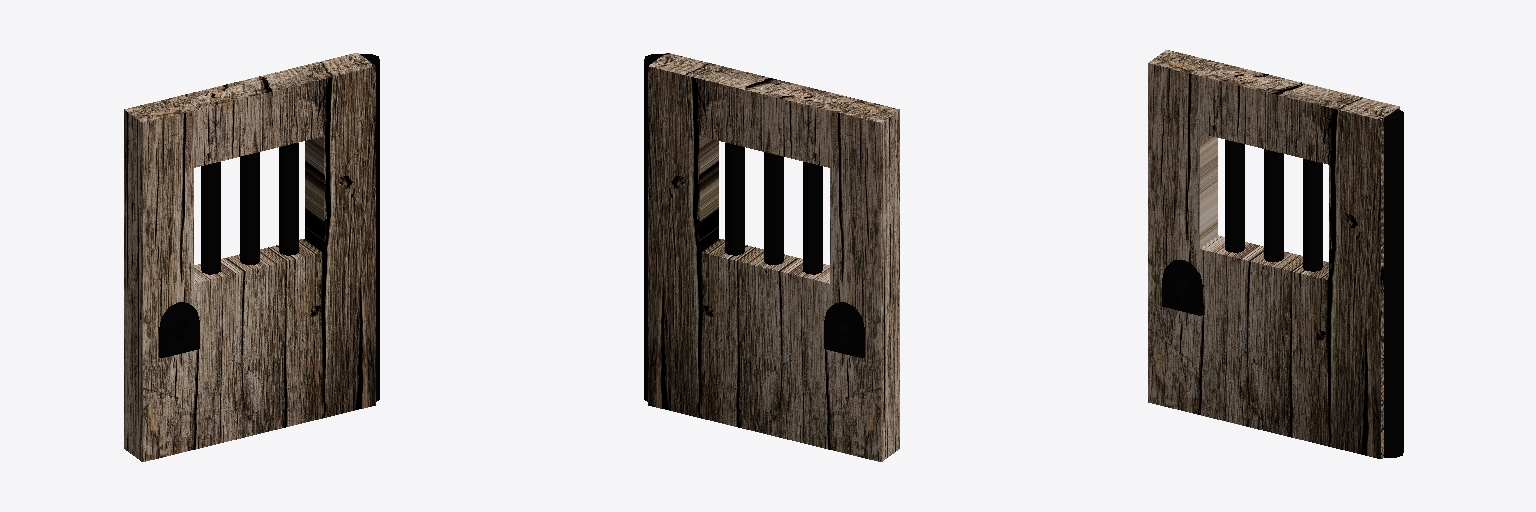
The picture shows the model from 3 angles: view 1: azimuth 30°, elevation 25°; view 2: azimuth 150°, elevation 25°; view 3: azimuth 330°, elevation 25°; orthographic projection.
Visible parts, largest first — view 1: pCube1, pCylinder2, pCylinder4, pCylinder3, pCylinder7, pCylinder1; view 2: pCube1, pCylinder2, pCylinder4, pCylinder3, pCylinder7, pCylinder1; view 3: pCube1, pCylinder1, pCylinder3, pCylinder2, pCylinder4, pCylinder7.
Boxes of the visible parts, box(x1,y1,x2,y2) form: pCube1: box(124, 53, 375, 461); pCylinder2: box(240, 152, 259, 264); pCylinder4: box(279, 143, 298, 255); pCylinder3: box(201, 162, 220, 274); pCylinder7: box(159, 302, 199, 357); pCylinder1: box(360, 54, 379, 401); pCube1: box(648, 53, 899, 461); pCylinder2: box(764, 152, 783, 264); pCylinder4: box(725, 143, 744, 255); pCylinder3: box(803, 162, 822, 274); pCylinder7: box(824, 302, 864, 357); pCylinder1: box(644, 54, 663, 401); pCube1: box(1148, 50, 1399, 458); pCylinder1: box(1384, 109, 1403, 457); pCylinder3: box(1225, 140, 1244, 252); pCylinder2: box(1264, 149, 1283, 261); pCylinder4: box(1303, 159, 1322, 271); pCylinder7: box(1162, 260, 1202, 315).
Size of the model in its own units: 3.79 by 5 by 0.5986.
2 materials, 1 textured.